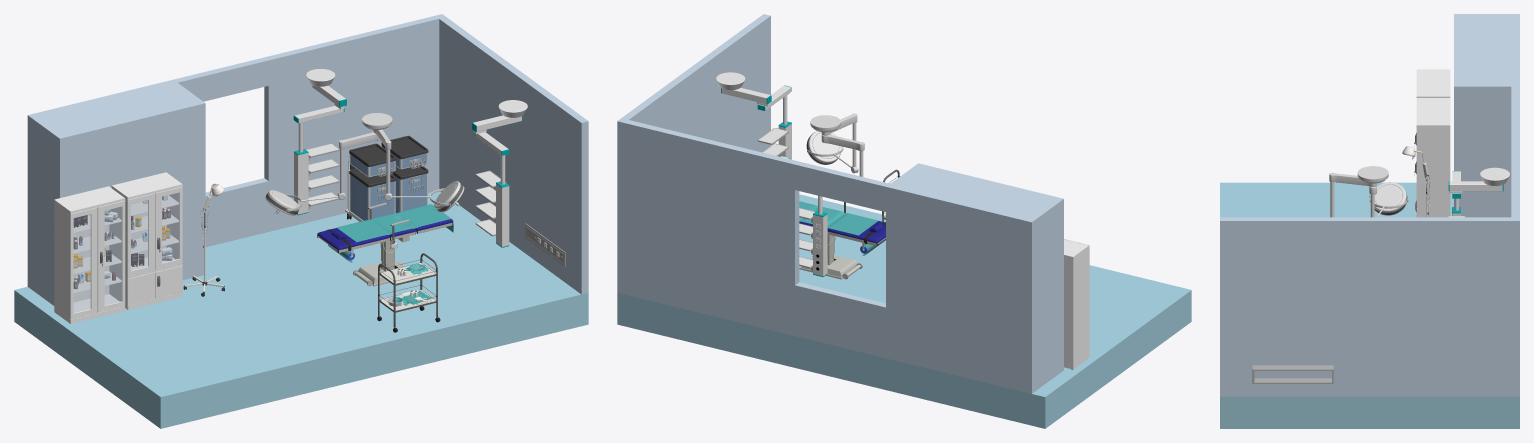
File: hospital_operating_room.glb
The picture shows the model from 3 angles, left to right: view 1: azimuth 30°, elevation 25°; view 2: azimuth 150°, elevation 25°; view 3: azimuth 270°, elevation 25°; orthographic projection. The views are drawn at different scales.
Visible parts, largest first — view 1: Obj3d66-594498-7-446_5, Obj3d66-594498-3-646_2, Obj3d66-594498-2-455_1, Obj3d66-594498-1-135_0, Obj3d66-594498-447-830_219, Obj3d66-594498-455-169_227, Obj3d66-594498-5-843_3, Obj3d66-594498-448-451_220, Obj3d66-594498-90-834_29, Obj3d66-594498-6-276_4, Obj3d66-594498-456-704_228, Obj3d66-594498-87-238_25 (+12 smaller); view 2: Obj3d66-594498-1-135_0, Obj3d66-594498-2-455_1, Obj3d66-594498-7-446_5, Obj3d66-594498-3-646_2, Obj3d66-594498-5-843_3, Obj3d66-594498-447-830_219, Obj3d66-594498-6-276_4, Obj3d66-594498-90-834_29, Obj3d66-594498-87-238_25, Obj3d66-594498-68-661_6, Obj3d66-594498-148-454_83; view 3: Obj3d66-594498-3-646_2, Obj3d66-594498-7-446_5, Obj3d66-594498-1-135_0, Obj3d66-594498-455-169_227, Obj3d66-594498-90-834_29, Obj3d66-594498-134-488_65, Obj3d66-594498-447-830_219, Obj3d66-594498-2-455_1, Obj3d66-594498-141-624_76, Obj3d66-594498-144-267_79, Obj3d66-594498-6-276_4.
Boxes of the visible parts, box(x1,y1,x2,y2) form: Obj3d66-594498-7-446_5: box(14, 191, 588, 428); Obj3d66-594498-3-646_2: box(435, 14, 588, 294); Obj3d66-594498-2-455_1: box(264, 16, 439, 231); Obj3d66-594498-1-135_0: box(27, 79, 205, 305); Obj3d66-594498-447-830_219: box(54, 186, 125, 323); Obj3d66-594498-455-169_227: box(111, 172, 182, 309); Obj3d66-594498-5-843_3: box(205, 178, 268, 247); Obj3d66-594498-448-451_220: box(74, 207, 121, 312); Obj3d66-594498-90-834_29: box(265, 113, 464, 215); Obj3d66-594498-6-276_4: box(174, 57, 268, 101); Obj3d66-594498-456-704_228: box(131, 193, 178, 270); Obj3d66-594498-87-238_25: box(336, 204, 453, 242); Obj3d66-594498-1-135_0: box(886, 163, 1063, 393); Obj3d66-594498-2-455_1: box(624, 120, 799, 335); Obj3d66-594498-7-446_5: box(617, 194, 1191, 428); Obj3d66-594498-3-646_2: box(617, 14, 770, 294); Obj3d66-594498-5-843_3: box(795, 282, 885, 358); Obj3d66-594498-447-830_219: box(1064, 239, 1089, 369); Obj3d66-594498-6-276_4: box(795, 161, 889, 211); Obj3d66-594498-90-834_29: box(806, 113, 885, 218); Obj3d66-594498-87-238_25: box(799, 201, 878, 235); Obj3d66-594498-68-661_6: box(799, 231, 885, 279); Obj3d66-594498-148-454_83: box(813, 214, 827, 276); Obj3d66-594498-3-646_2: box(1220, 217, 1519, 396); Obj3d66-594498-7-446_5: box(1220, 182, 1519, 428); Obj3d66-594498-1-135_0: box(1454, 14, 1519, 217); Obj3d66-594498-455-169_227: box(1416, 98, 1450, 217); Obj3d66-594498-90-834_29: box(1329, 166, 1408, 217); Obj3d66-594498-134-488_65: box(1252, 365, 1333, 383); Obj3d66-594498-447-830_219: box(1416, 69, 1450, 97); Obj3d66-594498-2-455_1: box(1511, 132, 1519, 217); Obj3d66-594498-141-624_76: box(1449, 181, 1502, 191); Obj3d66-594498-144-267_79: box(1480, 167, 1509, 185); Obj3d66-594498-6-276_4: box(1511, 86, 1519, 132).
Size of the model in its own units: 7.19 by 3.2 by 4.18.
86 materials, 8 textured.
